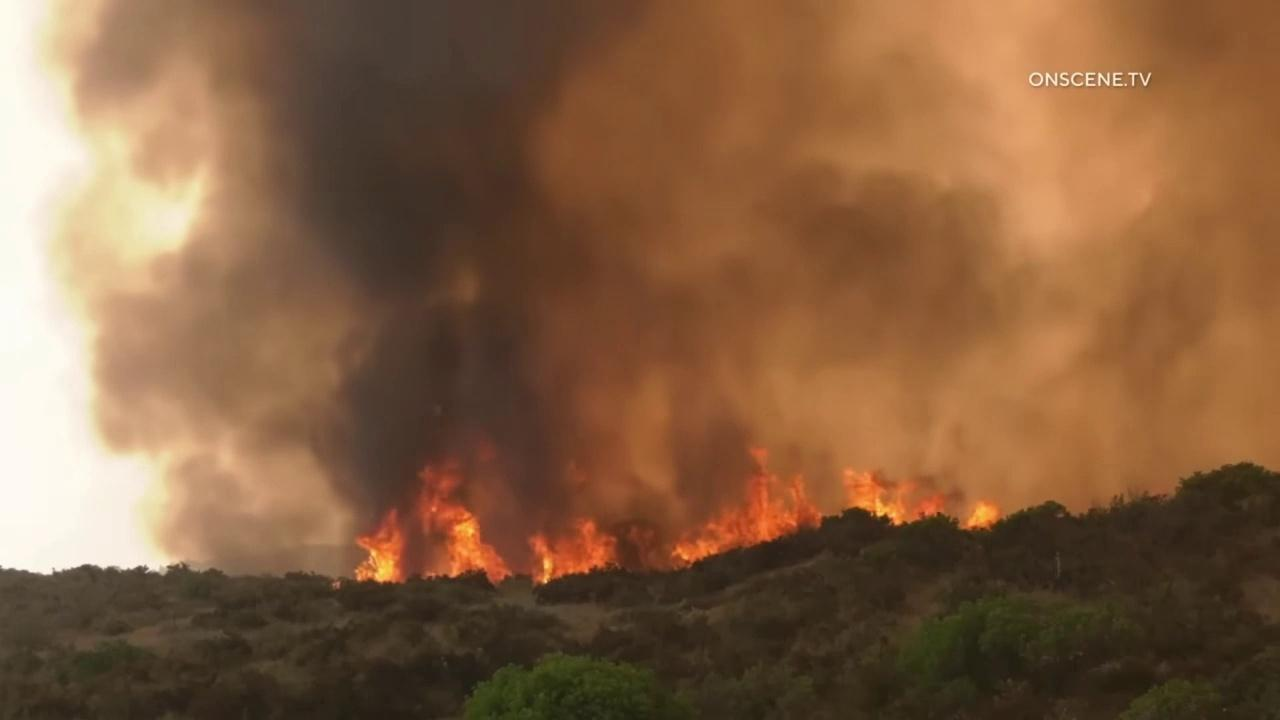fire: (353, 455, 514, 590), (666, 444, 824, 572), (840, 460, 1003, 533), (524, 518, 619, 587)
smoke: (33, 0, 1280, 586)
